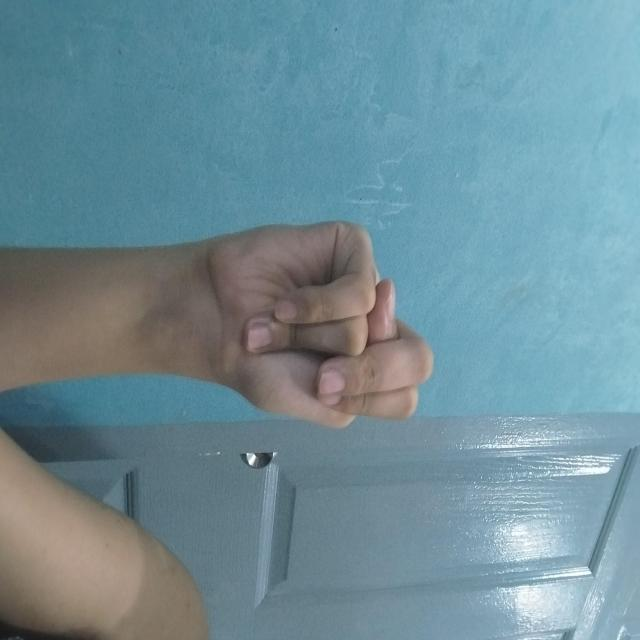N: (218, 207, 430, 423)
